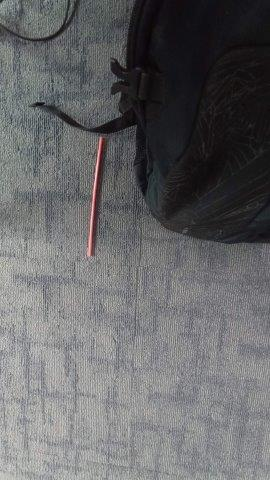sedotan: (88, 137, 103, 256)
